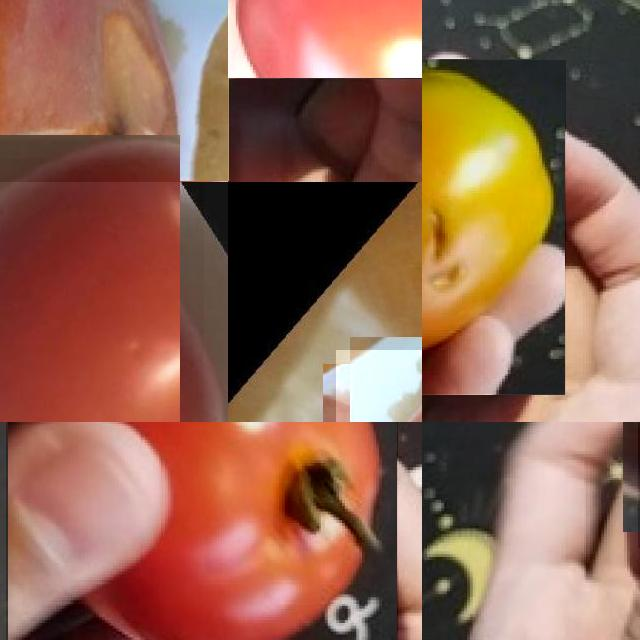0: (0, 158, 204, 422), (228, 0, 422, 78)
1: (0, 0, 228, 181), (336, 350, 422, 422)
Fresh Tomato: (6, 422, 398, 640)
Rotten Tomato: (422, 60, 566, 393)
